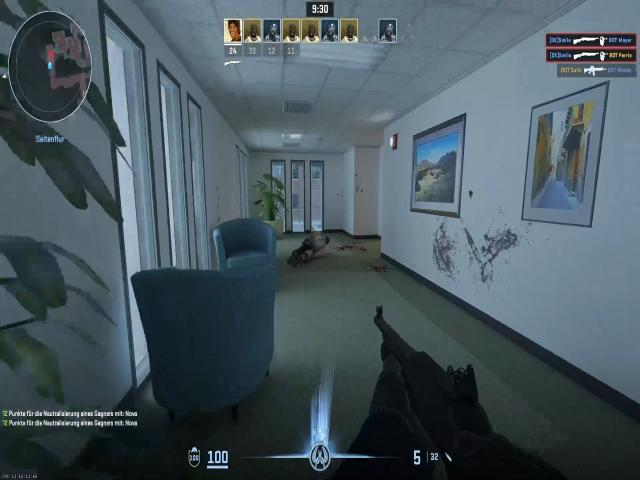Dead: (292, 228, 333, 276)
